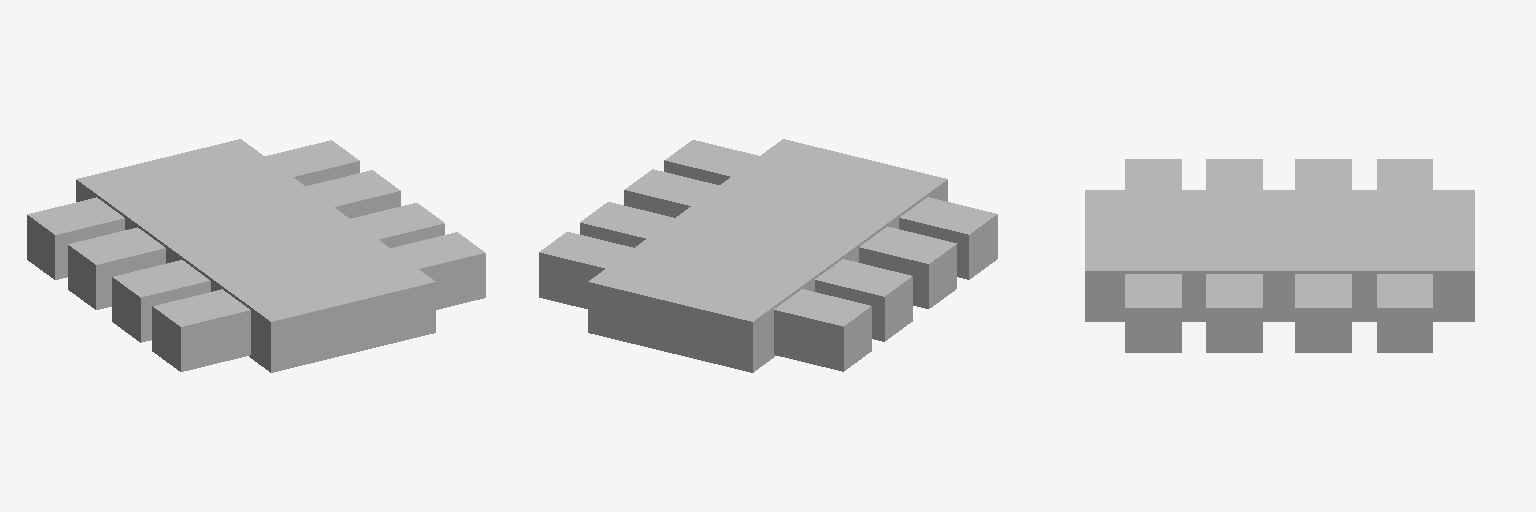
File: circuit.obj
The picture shows the model from 3 angles: view 1: azimuth 30°, elevation 25°; view 2: azimuth 150°, elevation 25°; view 3: azimuth 270°, elevation 25°; orthographic projection.
Parts seen in each view (by area): view 1: Cube.001; view 2: Cube.001; view 3: Cube.001.
Boxes of the visible parts, x1=… form: Cube.001: x1=27, y1=139, x2=485, y2=372; Cube.001: x1=539, y1=139, x2=997, y2=372; Cube.001: x1=1085, y1=159, x2=1474, y2=352.
Size of the model in its own units: 0.369 by 0.0591 by 0.4095.